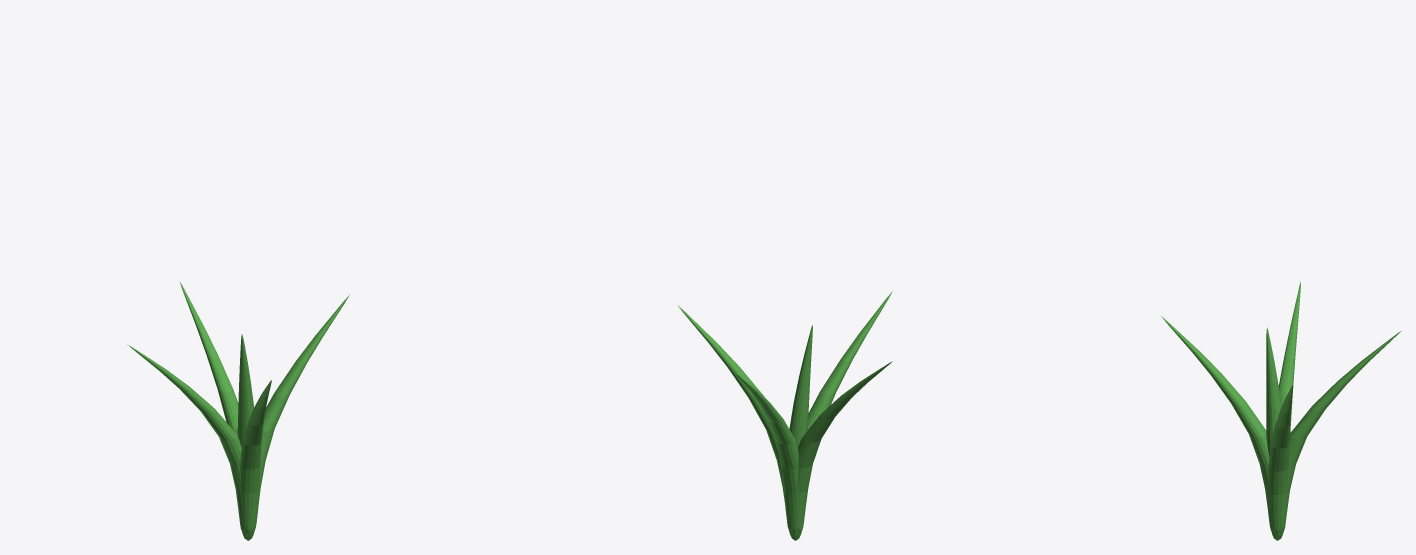
Rendered from Grass 10.fbx.
3 views of the same model, side by side, from view 1: azimuth 30°, elevation 25°; view 2: azimuth 150°, elevation 25°; view 3: azimuth 270°, elevation 25° (orthographic). The views are drawn at different scales.
Parts seen in each view (by area): view 1: Cube; view 2: Cube; view 3: Cube.
Part boxes in pixels (x1=…): Cube: x1=127, y1=281, x2=349, y2=540; Cube: x1=678, y1=291, x2=892, y2=540; Cube: x1=1161, y1=281, x2=1400, y2=540.
Size of the model in its own units: 58.02 by 56.57 by 44.34.
